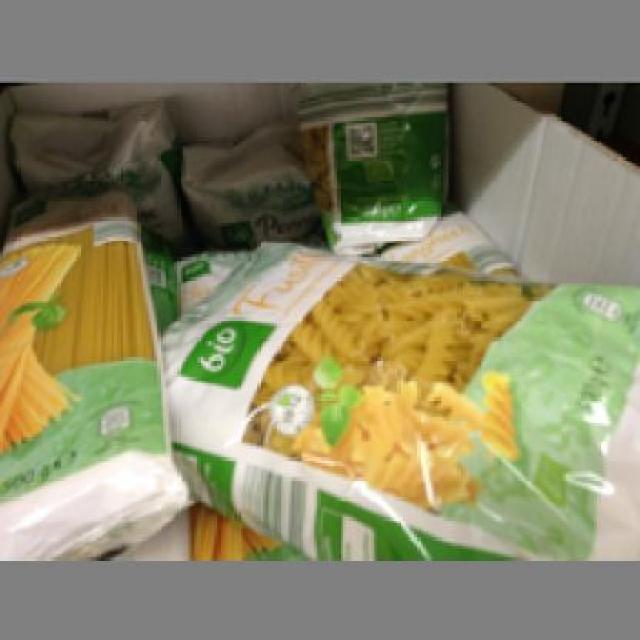Pasta: (157, 235, 637, 554), (3, 175, 171, 554), (288, 80, 458, 251)
